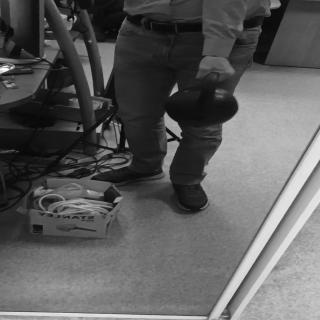kettlebell: (166, 70, 240, 128)
